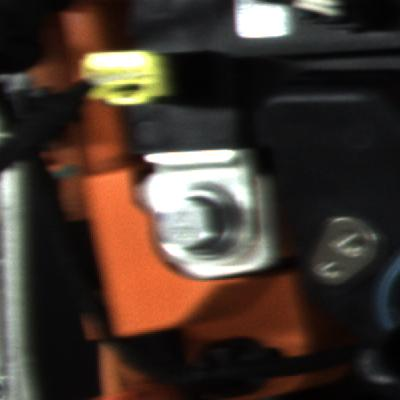nut_b: (152, 178, 248, 265)
